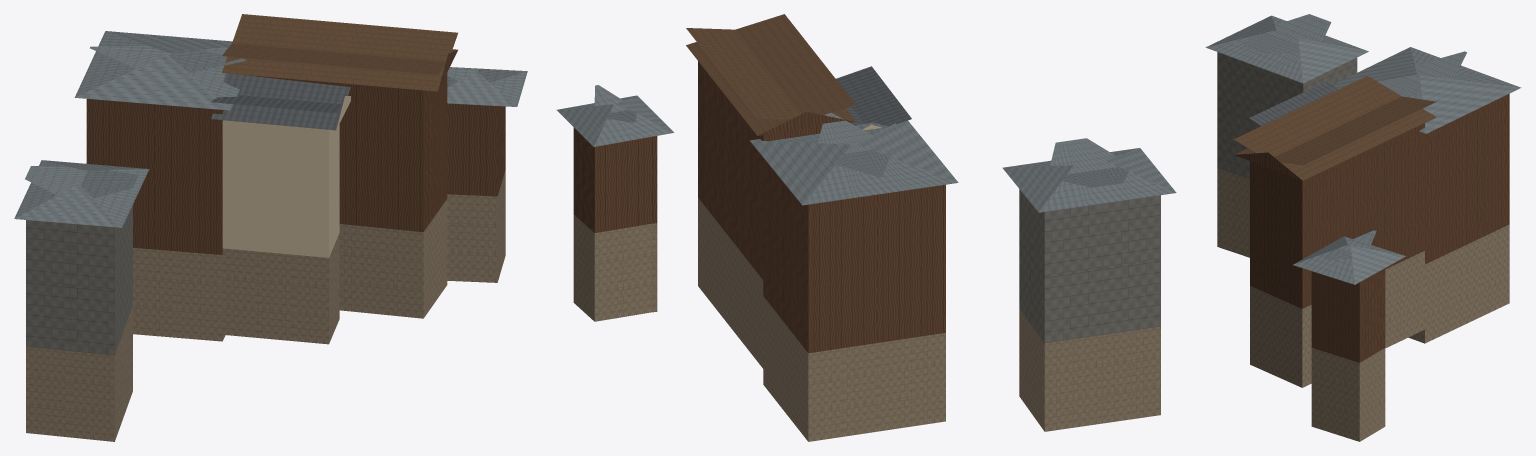
The model's file is bld_c40_-49_462.gltf.
The picture shows the model from 3 angles, left to right: view 1: azimuth 30°, elevation 25°; view 2: azimuth 150°, elevation 25°; view 3: azimuth 270°, elevation 25°; orthographic projection. The views are drawn at different scales.
Parts seen in each view (by area): view 1: bld_c40_-49_462; view 2: bld_c40_-49_462; view 3: bld_c40_-49_462.
Part boxes in pixels (box(x1,y1,x2,y2)): bld_c40_-49_462: box(14, 14, 527, 441); bld_c40_-49_462: box(557, 14, 1176, 441); bld_c40_-49_462: box(1205, 14, 1521, 441).
Bounding box in the file's own units: 34.53 × 16.5 × 18.51.
9 materials, 9 textured.
